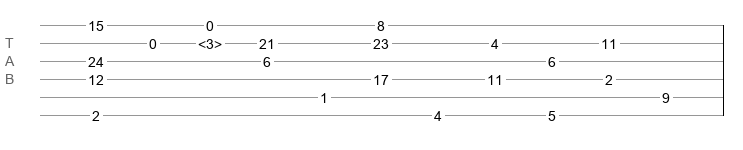0: (149, 36, 157, 46), (206, 18, 214, 28)
1: (320, 90, 328, 100)
11: (487, 72, 503, 82), (601, 36, 617, 46)
12: (88, 72, 104, 82)
15: (88, 18, 104, 28)
17: (373, 72, 389, 82)
2: (92, 108, 100, 118), (605, 72, 613, 82)
21: (259, 36, 275, 46)
23: (373, 36, 389, 46)
24: (88, 54, 104, 64)
4: (434, 108, 442, 118), (491, 36, 499, 46)
5: (548, 108, 556, 118)
6: (263, 54, 271, 64), (548, 54, 556, 64)
8: (377, 18, 385, 28)
9: (662, 90, 670, 100)
harmonic: (198, 36, 222, 46)
